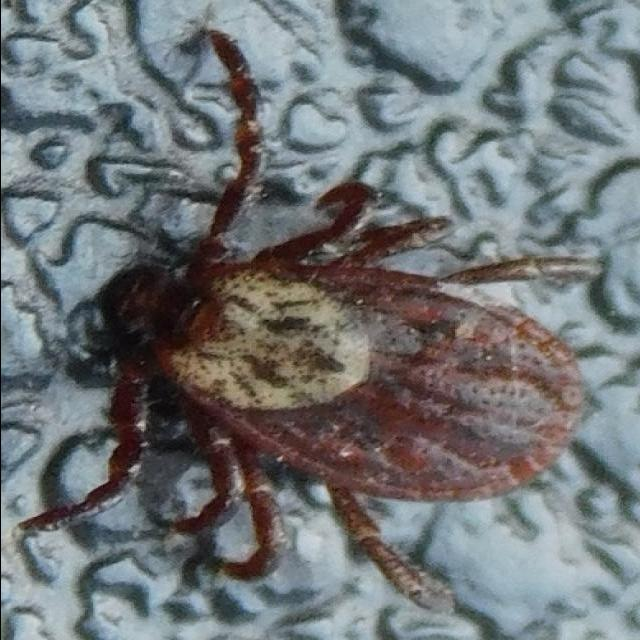Dermacentor Reticulatus-F: (16, 29, 604, 616)
